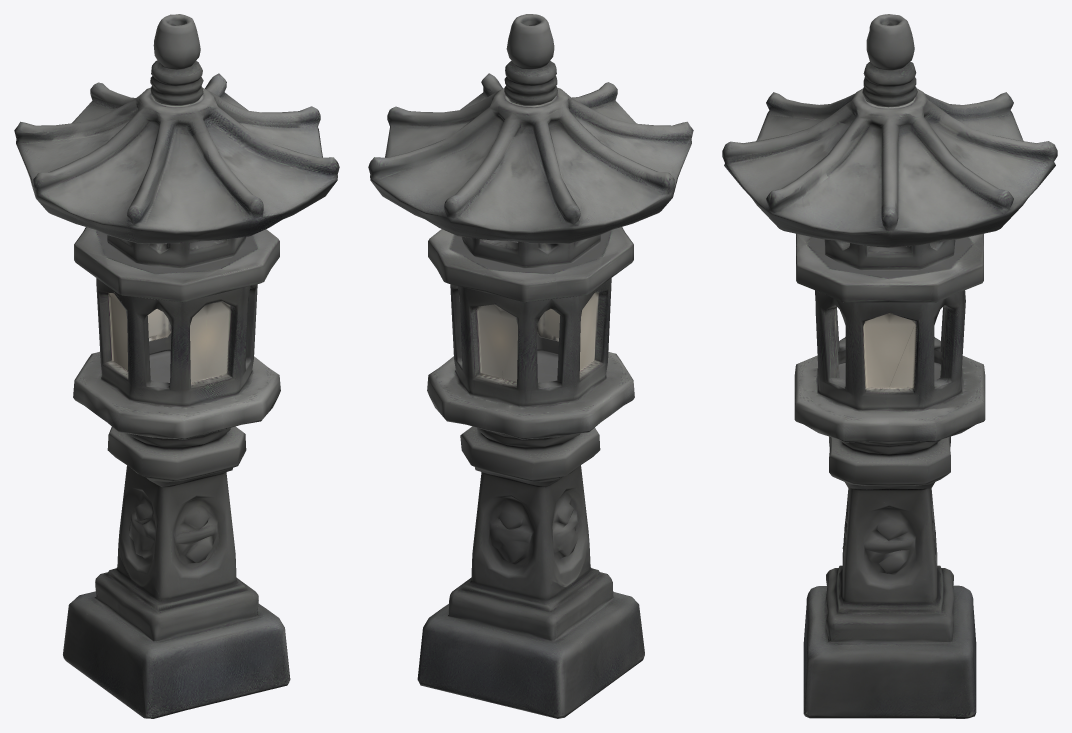
Rendered from stone_lantern.glb.
3 renders of one model, left to right at view 1: azimuth 30°, elevation 25°; view 2: azimuth 150°, elevation 25°; view 3: azimuth 270°, elevation 25°, orthographic.
Size of the model in its own units: 0.8728 by 1.91 by 0.8728.
1 material, 1 textured.
